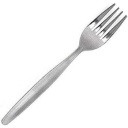Fork: (4, 3, 128, 124)
